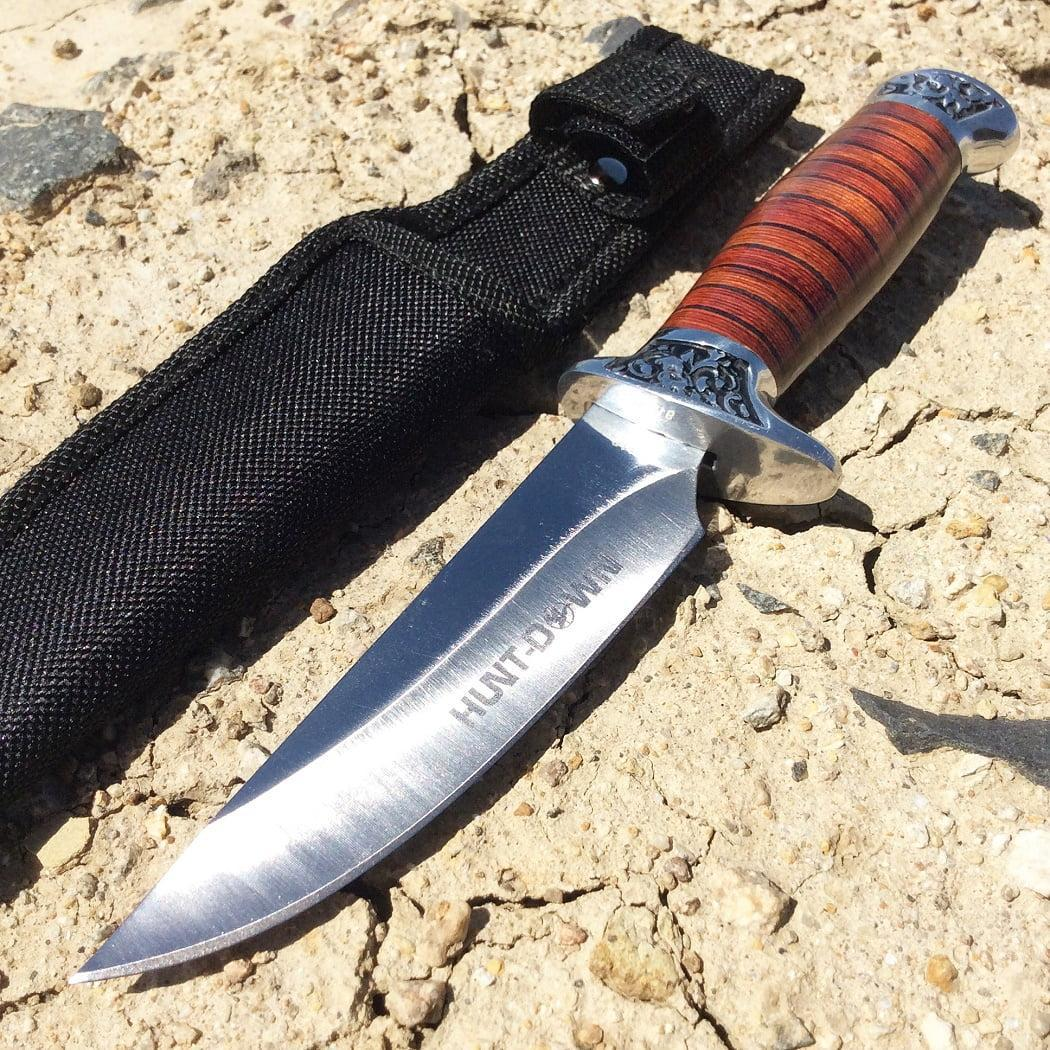faca: (70, 69, 1018, 983), (283, 841, 291, 859)
